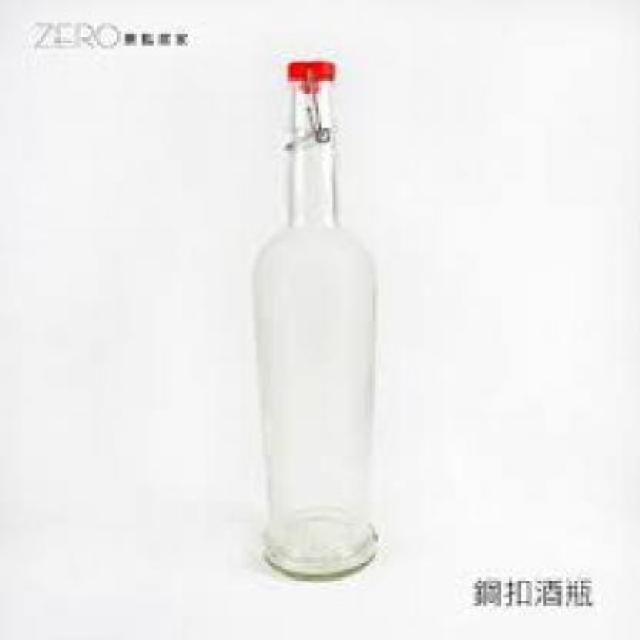kaca: (248, 77, 375, 577)
